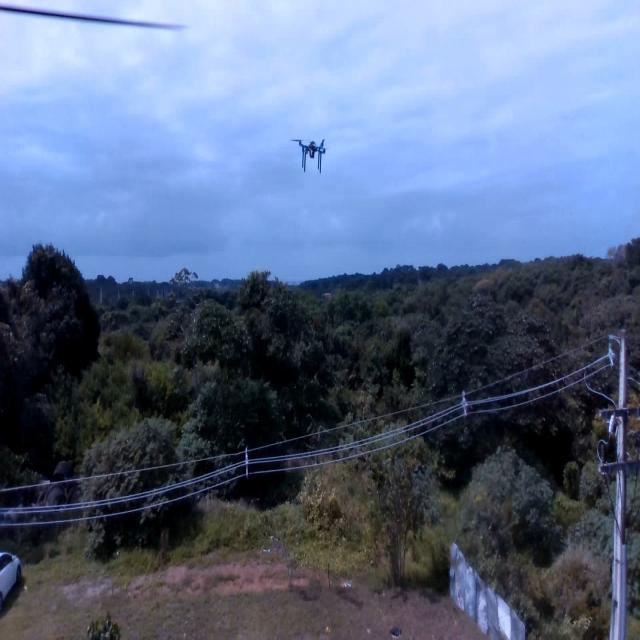-uav-: (284, 127, 338, 184)
